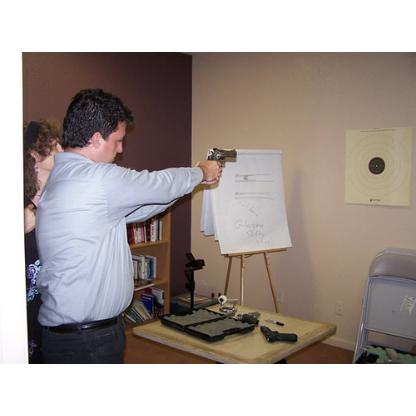gun: (205, 145, 237, 188), (259, 326, 297, 342), (238, 310, 262, 326)
